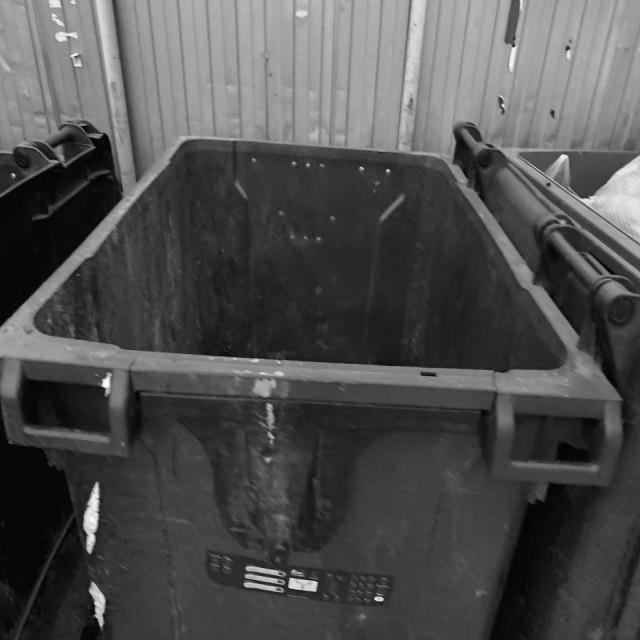Trashcan: (7, 79, 625, 640)
